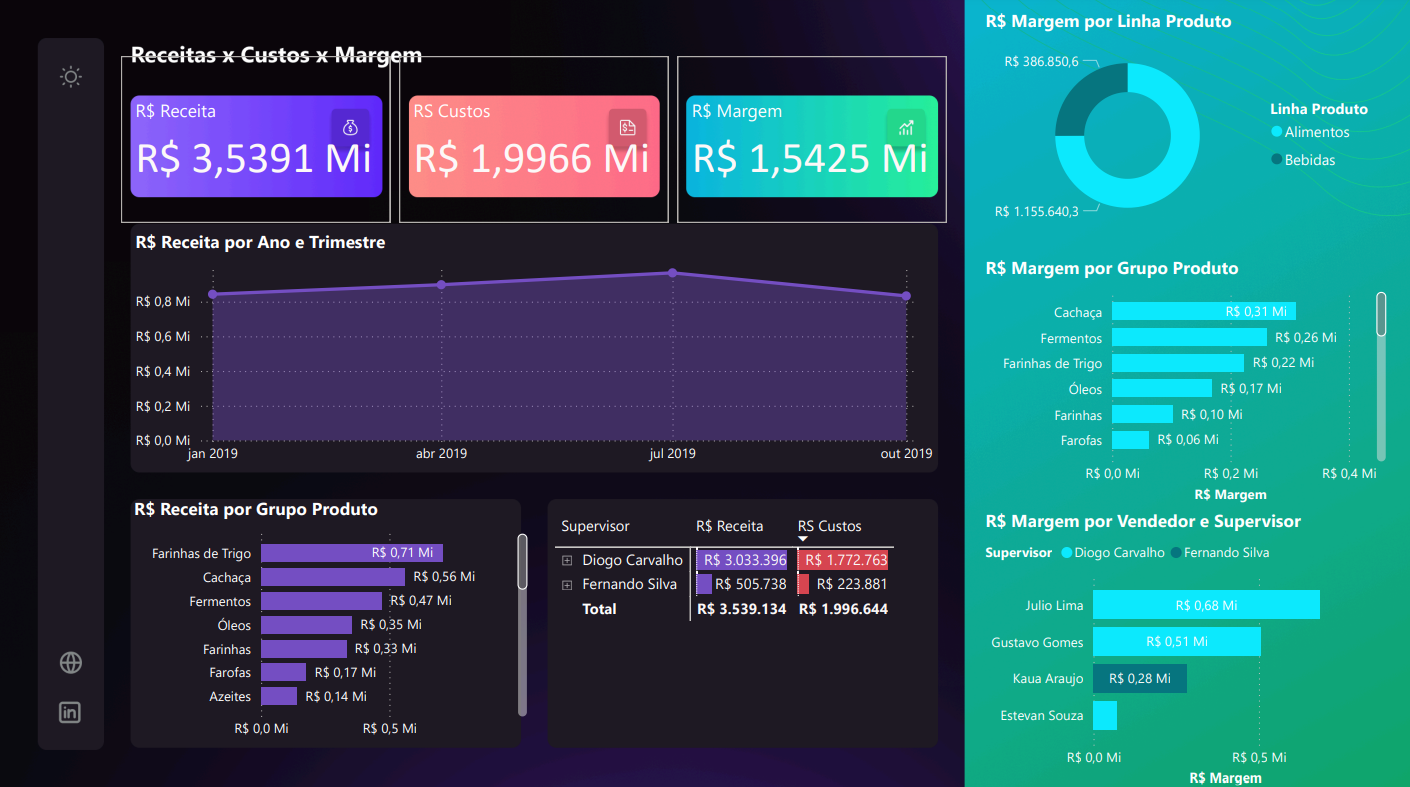

This screenshot's page, from the dashboard's own definition file:
{"tool":"powerbi","page":{"name":"Página 1","canvas":[1280,720],"ordinal":0},"visuals":[{"type":"cardVisual","fields":{"Data":["Vendas.R$ Receita","Vendas.RS Custos","Vendas.R$ Margem"]},"box":[106.5,49.5,759.1,161.3],"z":0},{"type":"pivotTable","fields":{"Rows":["Vendas.Supervisor","Vendas.Vendedor"],"Values":["Vendas.R$ Receita","Vendas.RS Custos"]},"box":[500,463.4,351.6,228],"z":1000},{"type":"barChart","fields":{"Y":["Vendas.R$ Receita"],"Category":["Produtos.Grupo Produto"]},"box":[118.3,452.7,365.6,228],"z":2000},{"type":"areaChart","fields":{"Category":["Vendas.Mesclado.Variation.Hierarquia de datas.Ano","Vendas.Mesclado.Variation.Hierarquia de datas.Trimestre","Vendas.Mesclado.Variation.Hierarquia de datas.Mês","Vendas.Mesclado.Variation.Hierarquia de datas.Dia"],"Y":["Vendas.R$ Receita"]},"box":[119.4,211.1,732.3,220.8],"z":3000},{"type":"donutChart","fields":{"Category":["Produtos.Linha Produto"],"Y":["Vendas.R$ Margem"]},"box":[889.1,10.9,372.8,208.7],"z":4000},{"type":"barChart","fields":{"Category":["Produtos.Grupo Produto"],"Y":["Vendas.R$ Margem"]},"box":[889.1,234,372.8,229.2],"z":5000},{"type":"barChart","fields":{"Y":["Vendas.R$ Margem"],"Category":["Vendas.Vendedor"],"Series":["Vendas.Supervisor"]},"box":[889.1,463.3,372.8,257],"z":6000}]}

Visuals, with their boxes on the page's 1280x720 design canvas (x1, y1, x2, y2). These are canvas units, not pixel positions in the 1410x787 screenshot, which may show the page scaled, cropped or inside an application window:
cardVisual - Vendas.R$ Receita x Vendas.RS Custos: box(106, 50, 866, 211)
pivotTable - Vendas.Supervisor x Vendas.Vendedor: box(500, 463, 852, 691)
barChart - Vendas.R$ Receita x Produtos.Grupo Produto: box(118, 453, 484, 681)
areaChart - Vendas.Mesclado.Variation.Hierarquia de datas.Ano x Vendas.Mesclado.Variation.Hierarquia de datas.Trimestre: box(119, 211, 852, 432)
donutChart - Produtos.Linha Produto x Vendas.R$ Margem: box(889, 11, 1262, 220)
barChart - Produtos.Grupo Produto x Vendas.R$ Margem: box(889, 234, 1262, 463)
barChart - Vendas.R$ Margem x Vendas.Vendedor: box(889, 463, 1262, 720)
